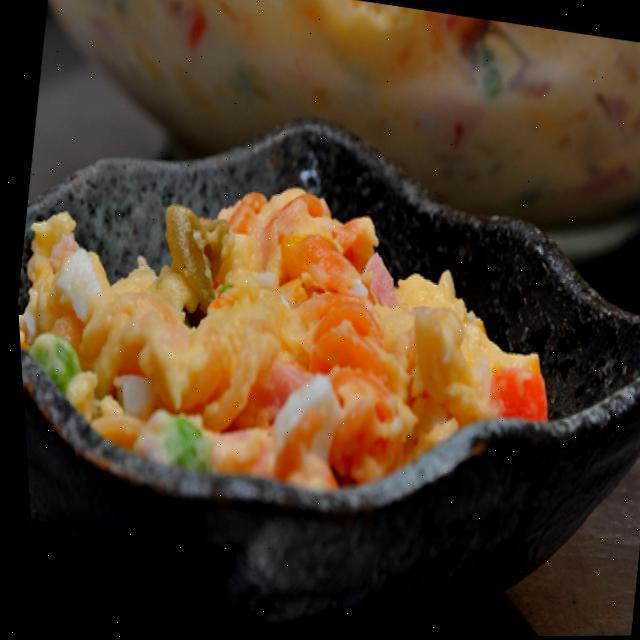蔬菜料理: (3, 65, 640, 640)
